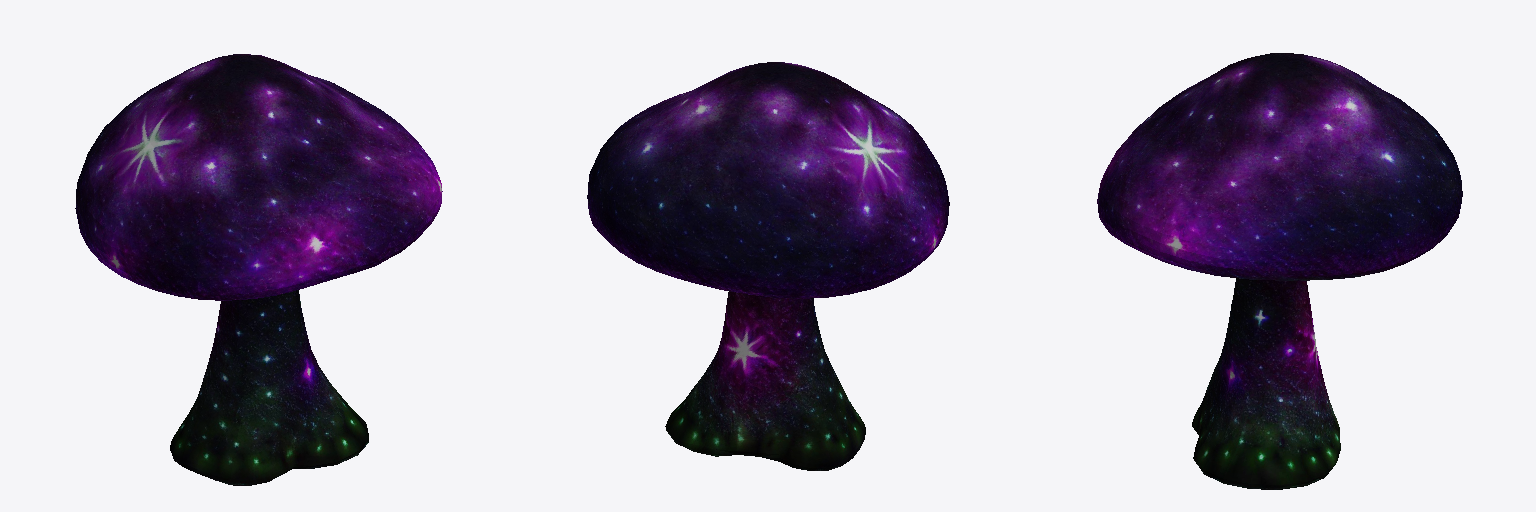
3 renders of one model, left to right at view 1: azimuth 30°, elevation 25°; view 2: azimuth 150°, elevation 25°; view 3: azimuth 270°, elevation 25°, orthographic.
Parts seen in each view (by area): view 1: mesh; view 2: mesh; view 3: mesh.
Boxes of the visible parts, <box> form: mesh: <box>75,54,442,485</box>; mesh: <box>587,62,949,470</box>; mesh: <box>1097,53,1462,489</box>.
Size of the model in its own units: 0.8586 by 0.9989 by 0.8738.
Materials: 1 (1 with a texture image).